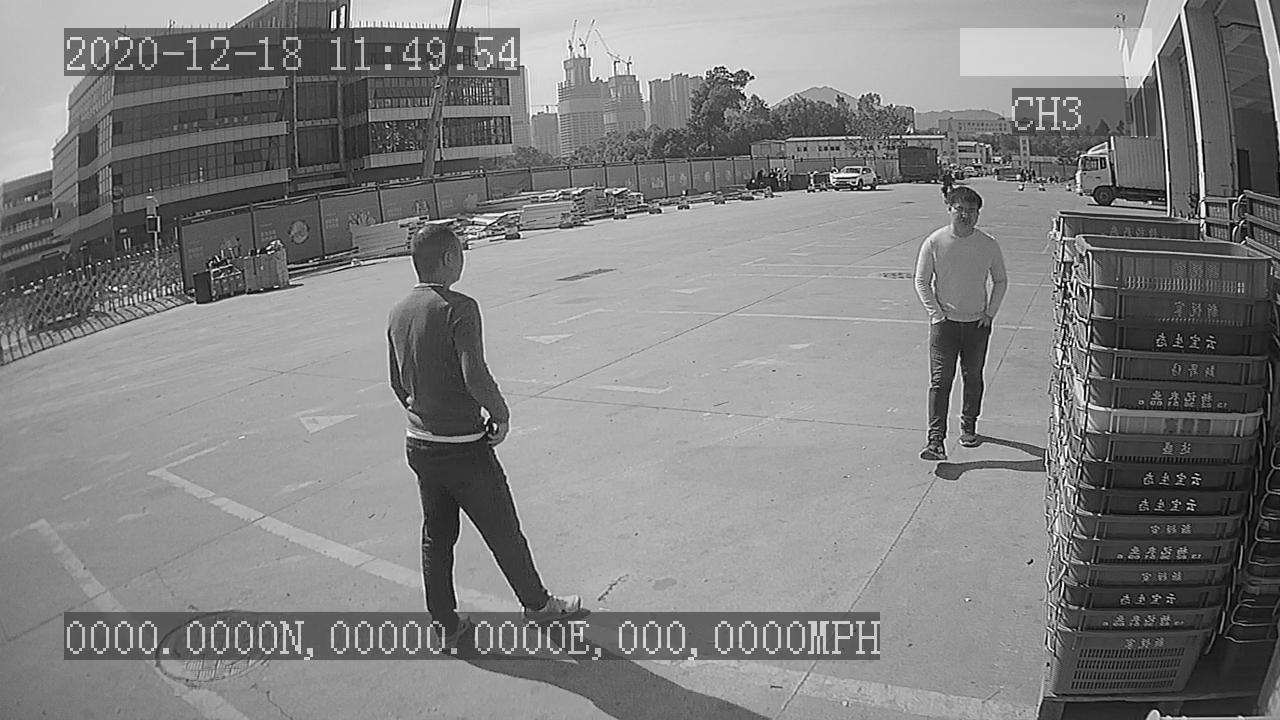person: (906, 185, 1015, 470)
